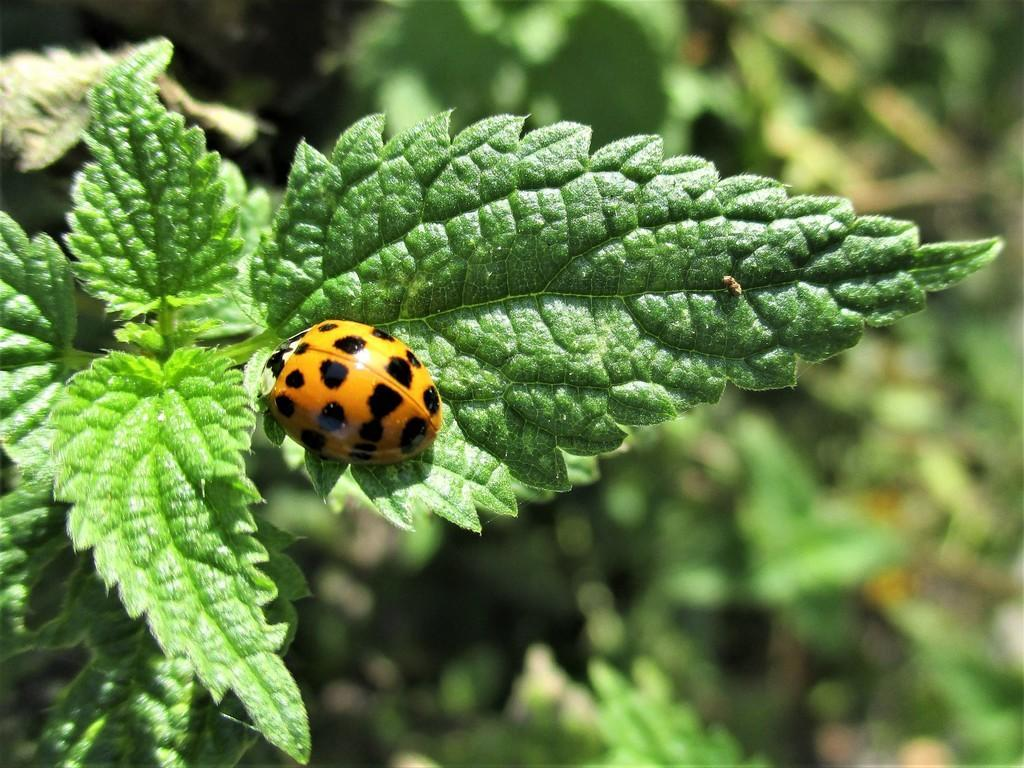ladybug: (259, 319, 447, 463)
